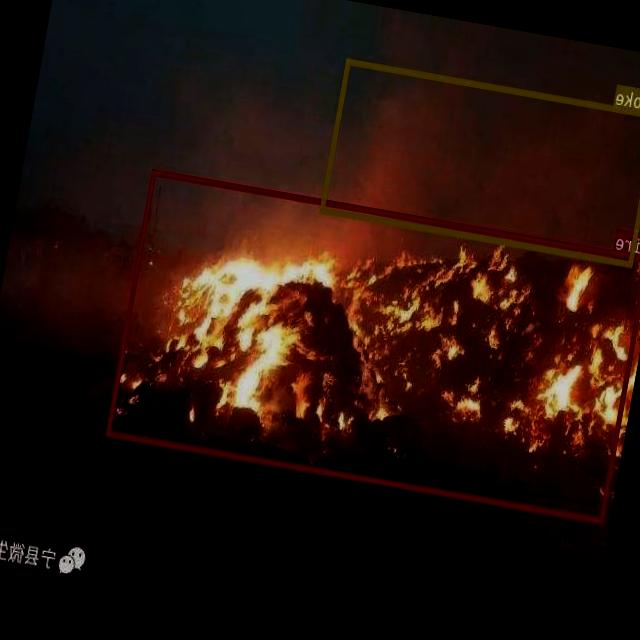fire: (106, 168, 640, 522)
smoke: (320, 56, 640, 266)
